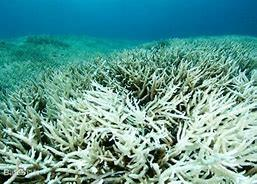bleached_corals: (1, 39, 257, 184)
